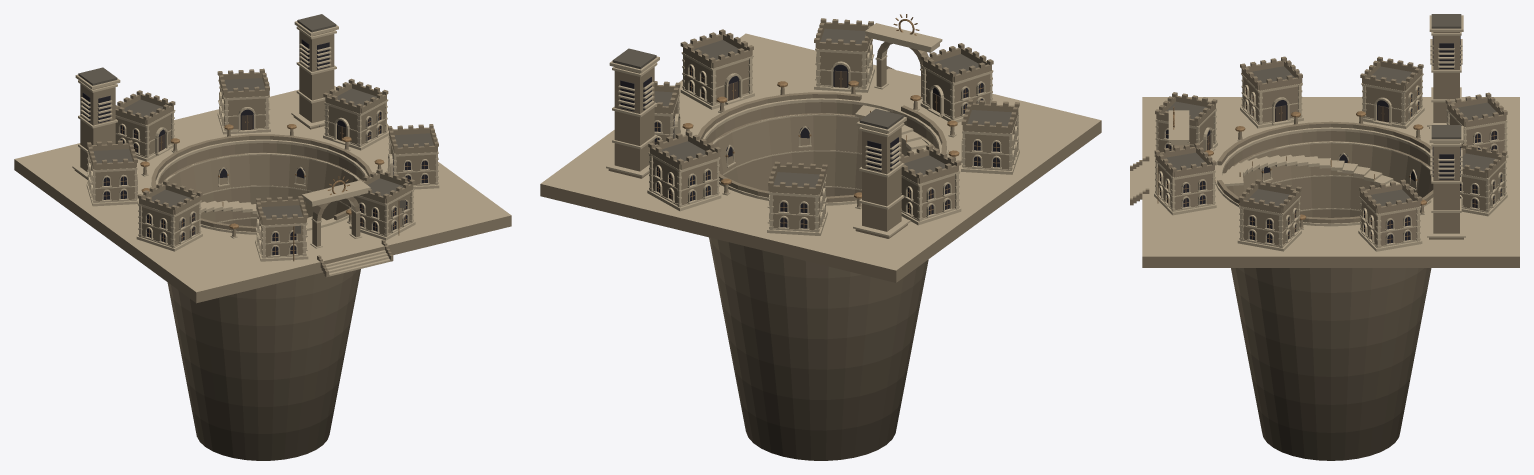
Rendered from sunless-well.glb.
3 renders of one model, left to right at view 1: azimuth 30°, elevation 25°; view 2: azimuth 150°, elevation 25°; view 3: azimuth 270°, elevation 25°, orthographic. The views are drawn at different scales.
Visible parts, largest first — view 1: rim-court, descending-shaft, rim-court-roof, well-head, well-head-roof, offering-rim; view 2: rim-court, descending-shaft, rim-court-roof, well-head, well-head-roof, offering-rim; view 3: rim-court, descending-shaft, rim-court-roof, well-head, well-head-roof, offering-rim.
Boxes of the visible parts, bbox=[...] form: rim-court: bbox=[14, 79, 511, 303]; descending-shaft: bbox=[161, 152, 360, 460]; rim-court-roof: bbox=[87, 68, 438, 225]; well-head: bbox=[72, 26, 368, 248]; well-head-roof: bbox=[75, 14, 370, 203]; offering-rim: bbox=[140, 124, 405, 261]; rim-court: bbox=[540, 33, 1101, 282]; descending-shaft: bbox=[709, 105, 935, 460]; rim-court-roof: bbox=[648, 18, 1019, 194]; well-head: bbox=[606, 34, 939, 238]; well-head-roof: bbox=[609, 23, 942, 133]; offering-rim: bbox=[682, 14, 959, 209]; rim-court: bbox=[1130, 73, 1519, 267]; descending-shaft: bbox=[1222, 141, 1433, 460]; rim-court-roof: bbox=[1154, 56, 1507, 213]; well-head: bbox=[1170, 32, 1465, 239]; well-head-roof: bbox=[1168, 14, 1463, 142]; offering-rim: bbox=[1157, 106, 1426, 229].
Size of the model in its own units: 36 by 37.45 by 37.17.
